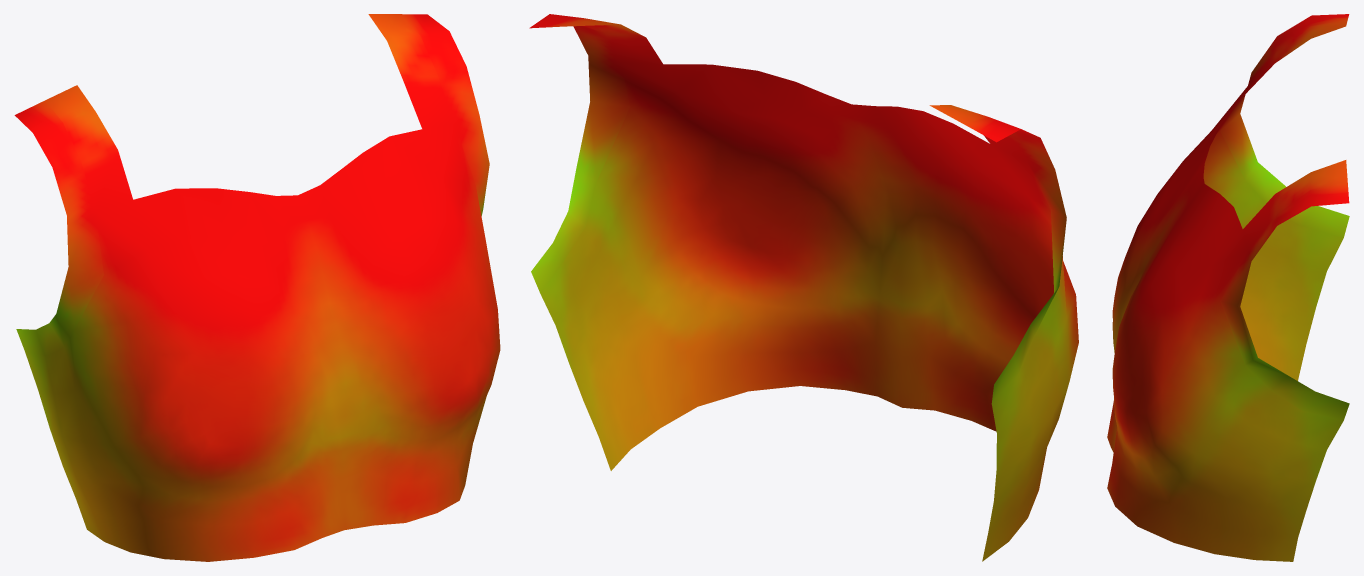
Rendered from chest.obj.
3 views of the same model, side by side, from view 1: azimuth 30°, elevation 25°; view 2: azimuth 150°, elevation 25°; view 3: azimuth 270°, elevation 25° (orthographic). The views are drawn at different scales.
Parts seen in each view (by area): view 1: chest_0; view 2: chest_0; view 3: chest_0.
Part boxes in pixels (x1,y1,x2,y2): chest_0: (14,14,500,561); chest_0: (529,14,1078,561); chest_0: (1107,14,1349,561).
Bounding box in the file's own units: 0.2811 × 0.264 × 0.1474.
Materials: 1 (1 with a texture image).
